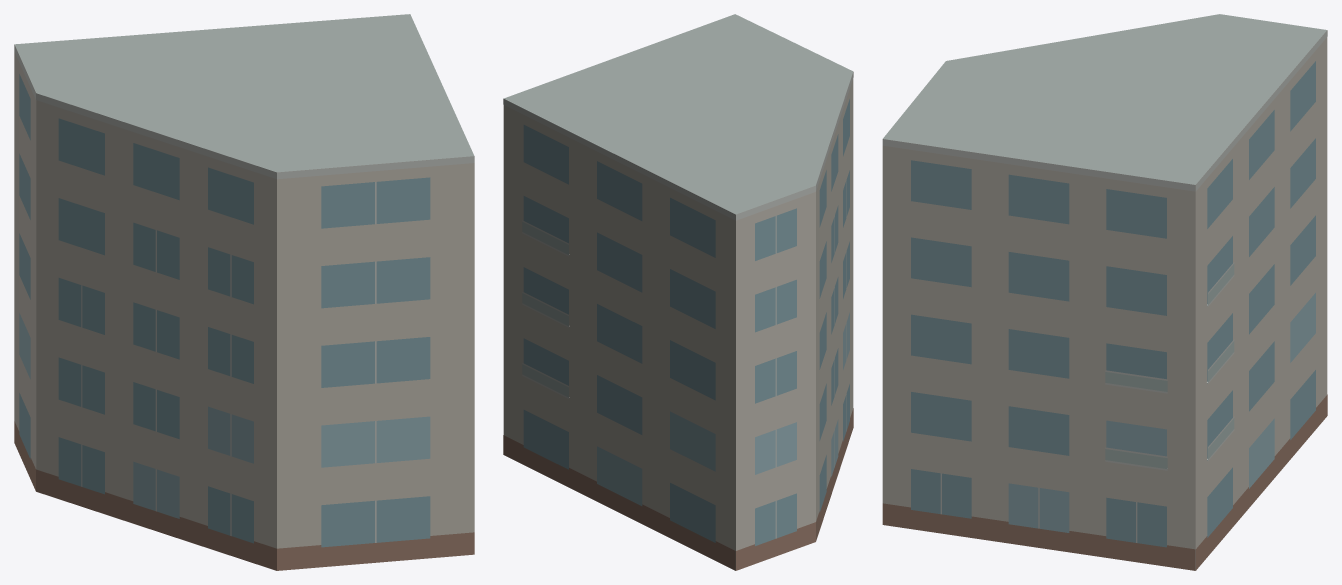
File: survey-upis-32738324.glb
3 views of the same model, side by side, from view 1: azimuth 30°, elevation 25°; view 2: azimuth 150°, elevation 25°; view 3: azimuth 270°, elevation 25° (orthographic). The views are drawn at different scales.
Visible parts, largest first — view 1: survey-upis-32738324.tmp; view 2: survey-upis-32738324.tmp; view 3: survey-upis-32738324.tmp.
Boxes of the visible parts, x1,y1,x2,y2 form: survey-upis-32738324.tmp: (14,14,474,570); survey-upis-32738324.tmp: (503,14,853,570); survey-upis-32738324.tmp: (882,14,1327,570).
Size of the model in its own units: 13.41 by 14.1 by 14.74.
